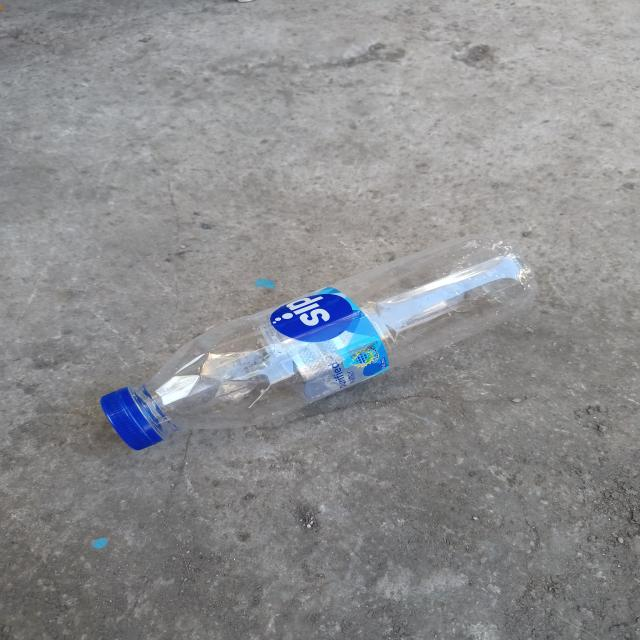Bottle: (101, 238, 536, 450)
